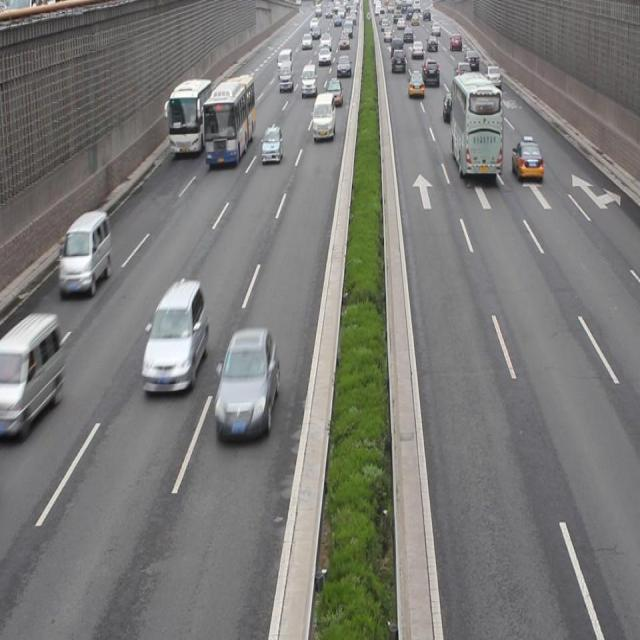car: (143, 279, 207, 398), (216, 328, 277, 438), (510, 138, 542, 184), (260, 124, 283, 166)
truck: (1, 312, 61, 441), (58, 212, 110, 298), (312, 92, 336, 141)
van: (450, 72, 500, 180), (202, 74, 256, 164), (167, 78, 210, 154)
